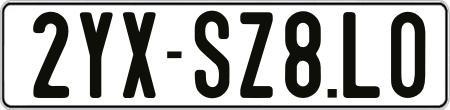0: (391, 12, 427, 102)
2: (31, 9, 68, 95)
8: (284, 11, 324, 100)
L: (343, 10, 382, 101)
S: (194, 10, 231, 99)
X: (122, 12, 161, 101)
Y: (77, 11, 112, 102)
Z: (239, 10, 278, 98)
